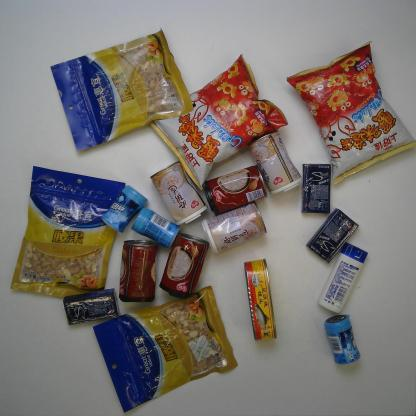Canned Food: (149, 160, 208, 227), (200, 199, 268, 254), (246, 131, 304, 195), (202, 163, 268, 217), (159, 232, 211, 300), (243, 259, 278, 342), (118, 239, 160, 303)
Dried Fruit: (90, 283, 240, 414), (50, 26, 194, 153), (8, 164, 126, 301)
Gum: (306, 208, 359, 264), (100, 184, 148, 235), (64, 288, 121, 326), (132, 207, 181, 249), (323, 314, 362, 365), (300, 163, 332, 214)
Personal Hygiene: (315, 242, 368, 315)
Puffed Food: (146, 52, 290, 194), (287, 38, 416, 187)
